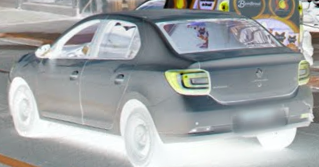car: (8, 11, 313, 163)
